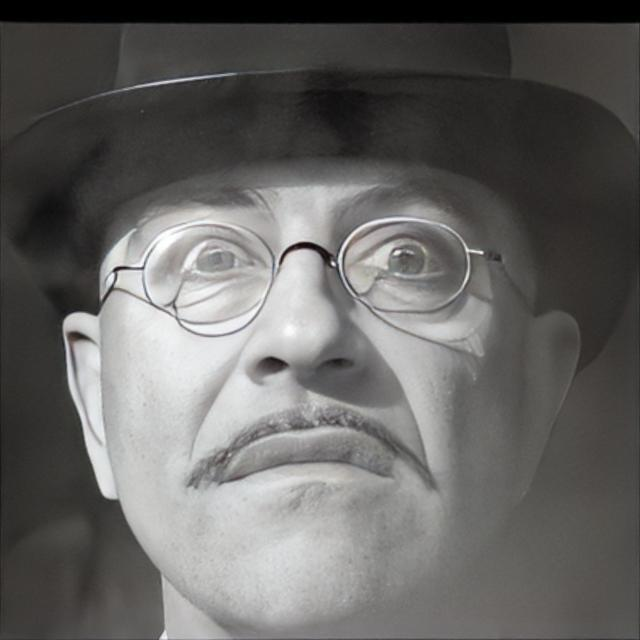fear: (100, 154, 534, 626)
